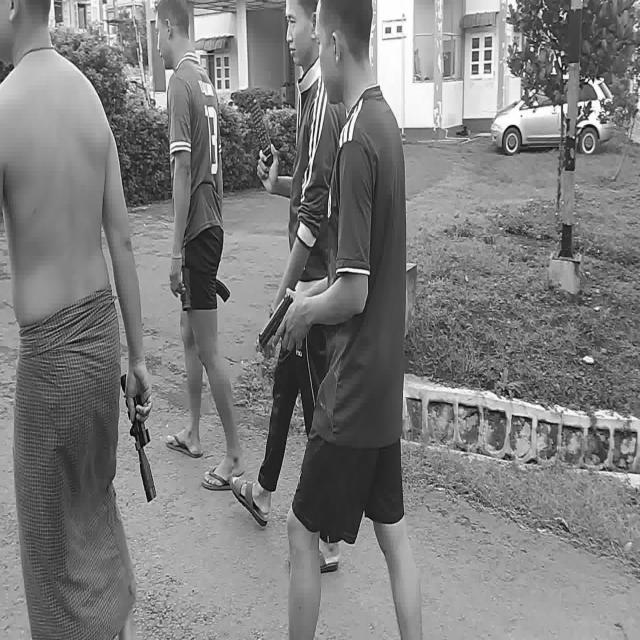gun: (258, 296, 294, 348)
